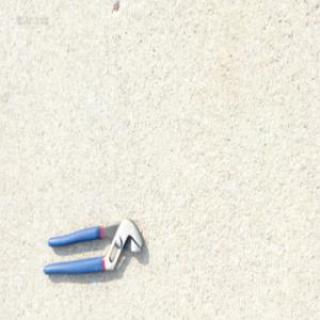Pliertrack_idkeyframe: (42, 215, 144, 278)
